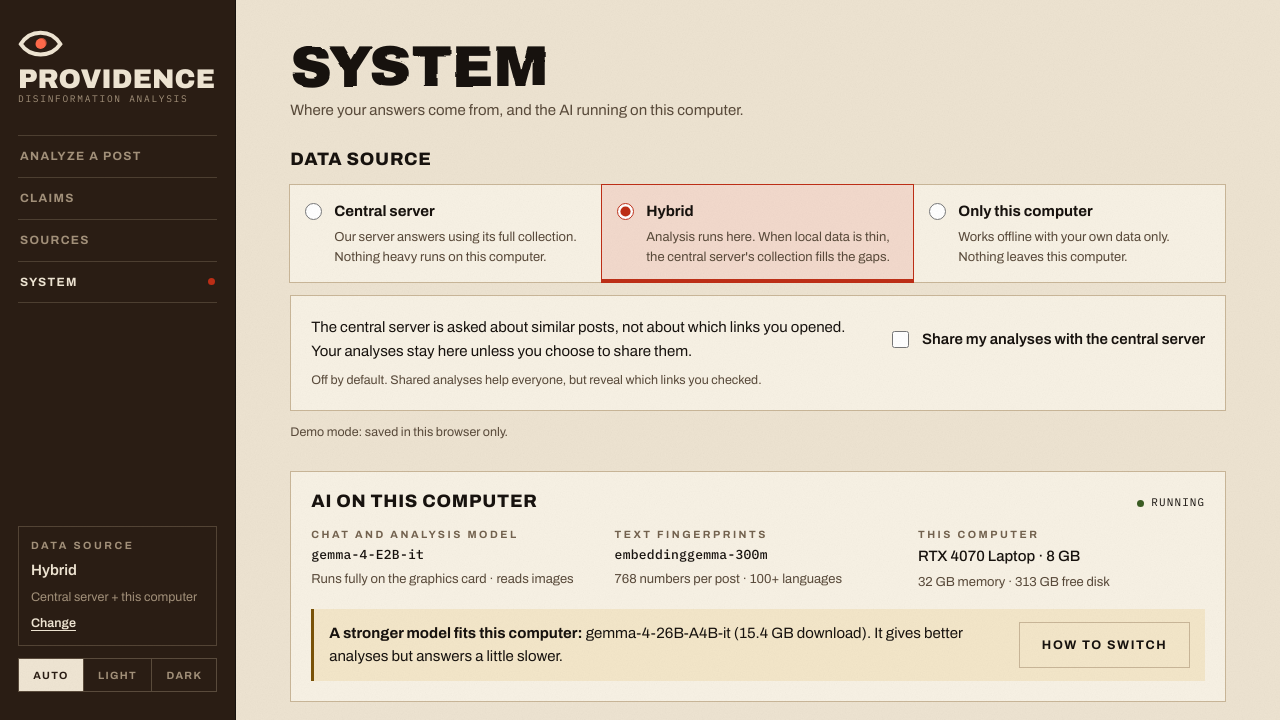
Test: System › sharing can't be on in local-only mode
This screenshot has width=1280, height=720.
Click the checkbox labelled "Share my analyses with the central server" at (901, 340), box [892, 331, 909, 348]
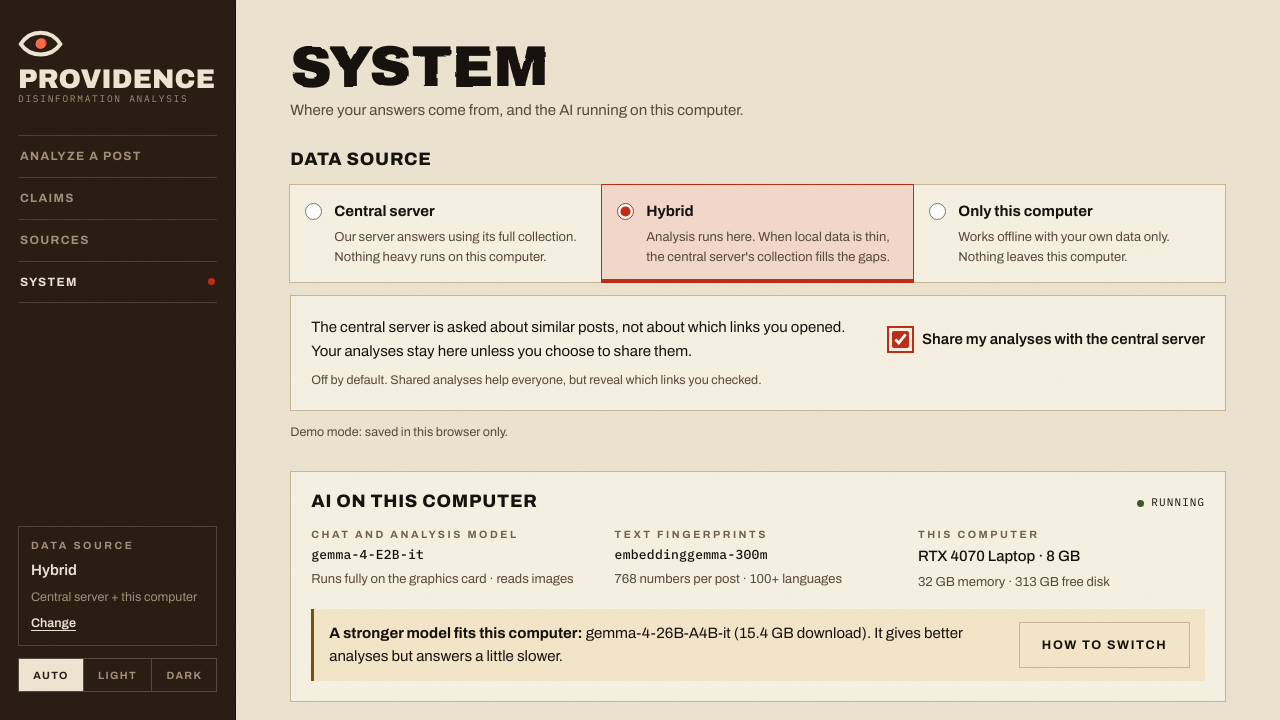
Result: the checkbox labelled "Share my analyses with the central server" is checked at [892, 331, 909, 348]
Click the radio button labelled "Only this computer" at (938, 211), box [929, 203, 946, 220]
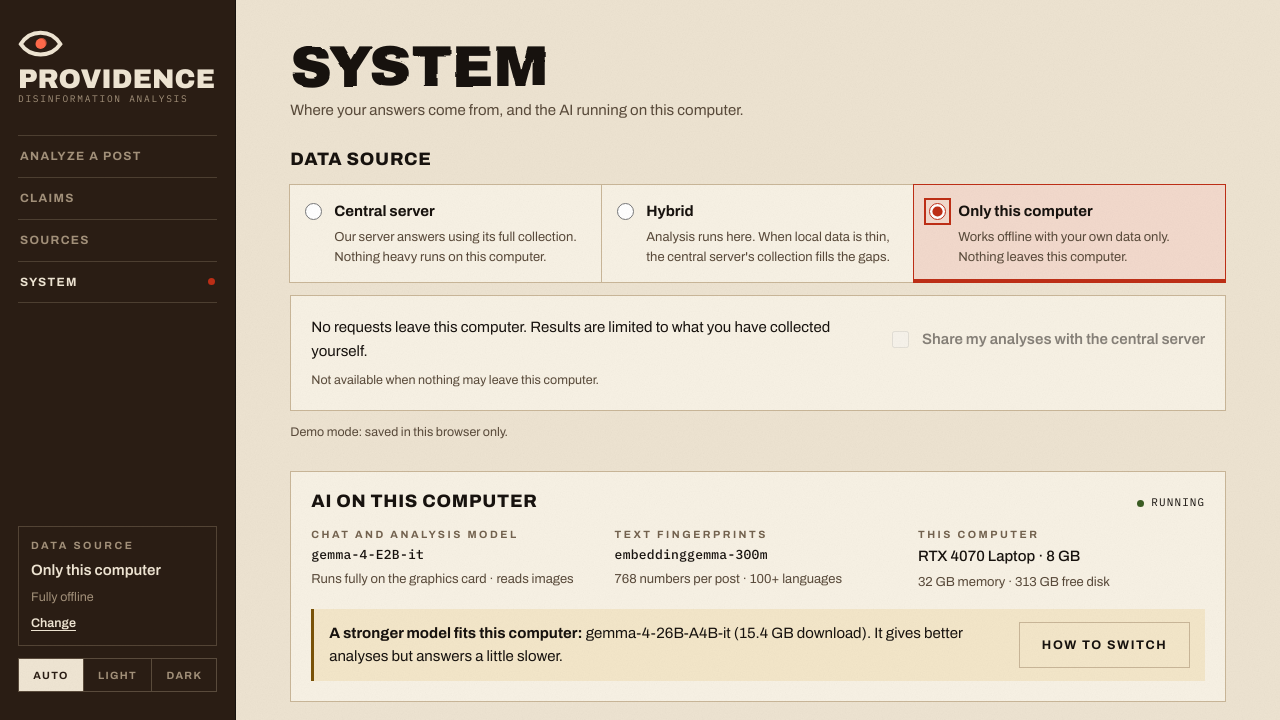
Result: the checkbox labelled "Share my analyses with the central server" is not checked at [892, 331, 909, 348]
Result: the checkbox labelled "Share my analyses with the central server" is disabled at [892, 331, 909, 348]
Result: the text "Not available when nothing may leave this computer." is shown at [311, 373, 599, 387]
